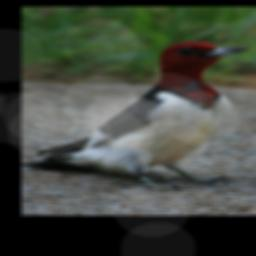Woodpecker: (21, 40, 256, 191)
